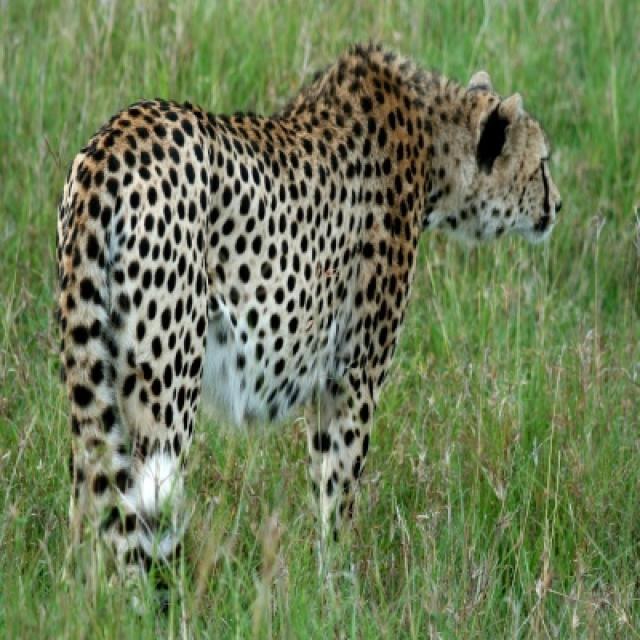Cheetah: (49, 48, 559, 614)
